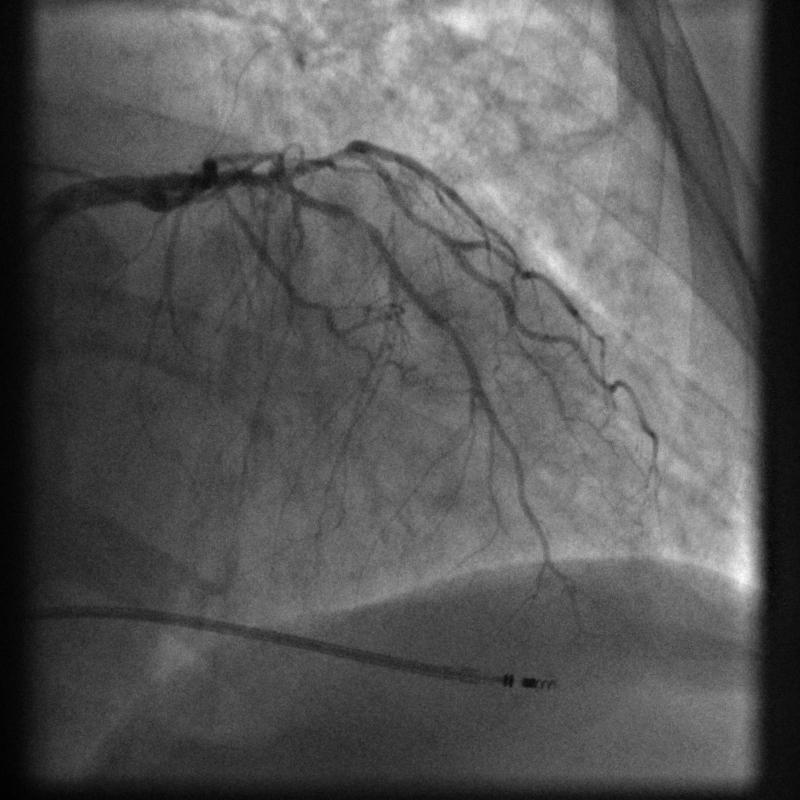Stenosis: (339, 206, 383, 255)
